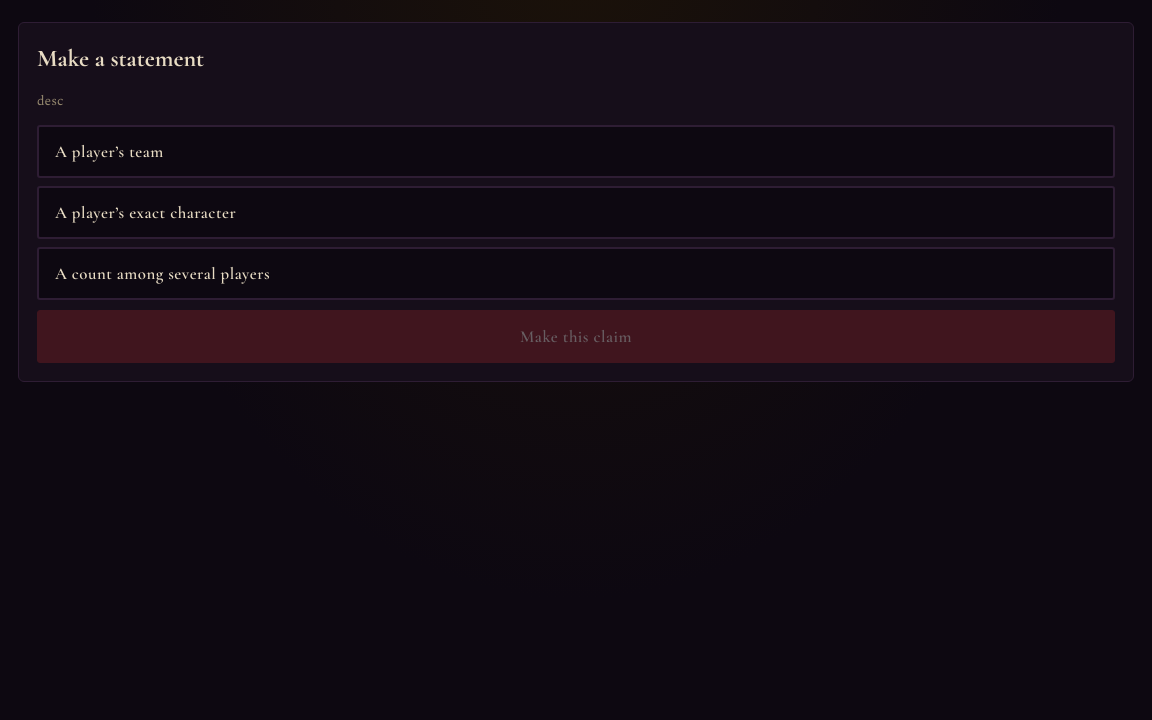
Scenario: ClaimBuilder › switching claim kind resets any in-progress picks
Step 1. Click the button "A player’s team" → (109, 151), box x1=37 y1=125 x2=1115 y2=178
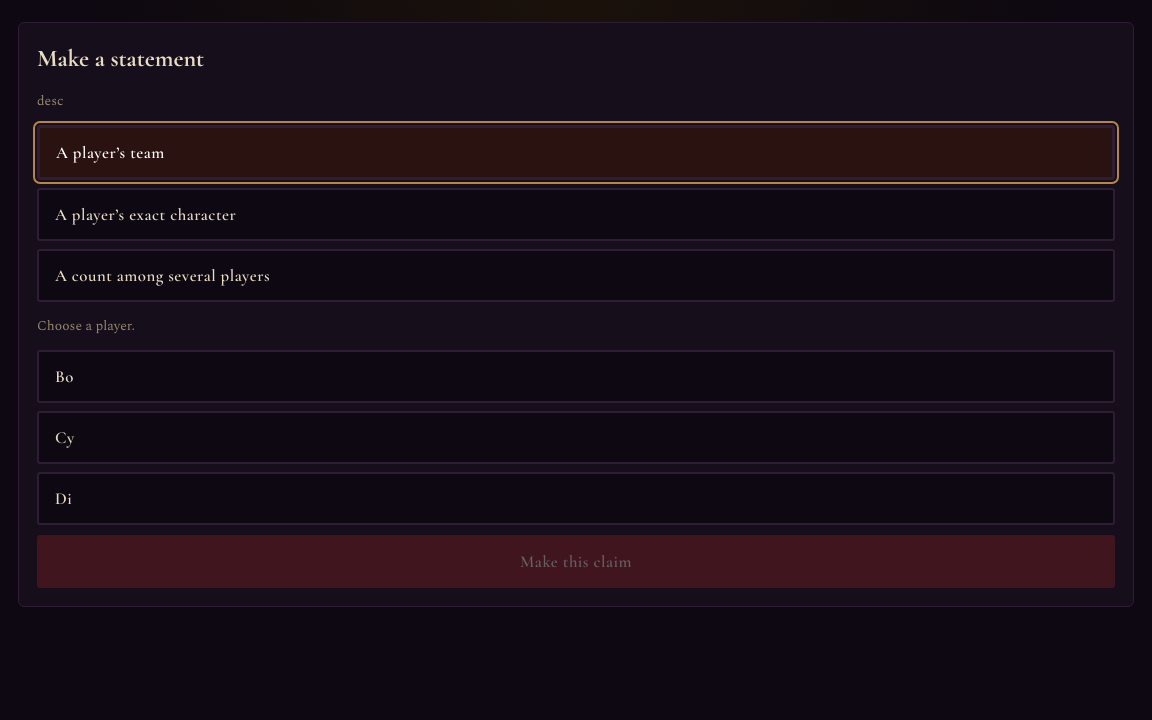
Step 2. Click the button "Bo" → (64, 376), box x1=37 y1=350 x2=1115 y2=403
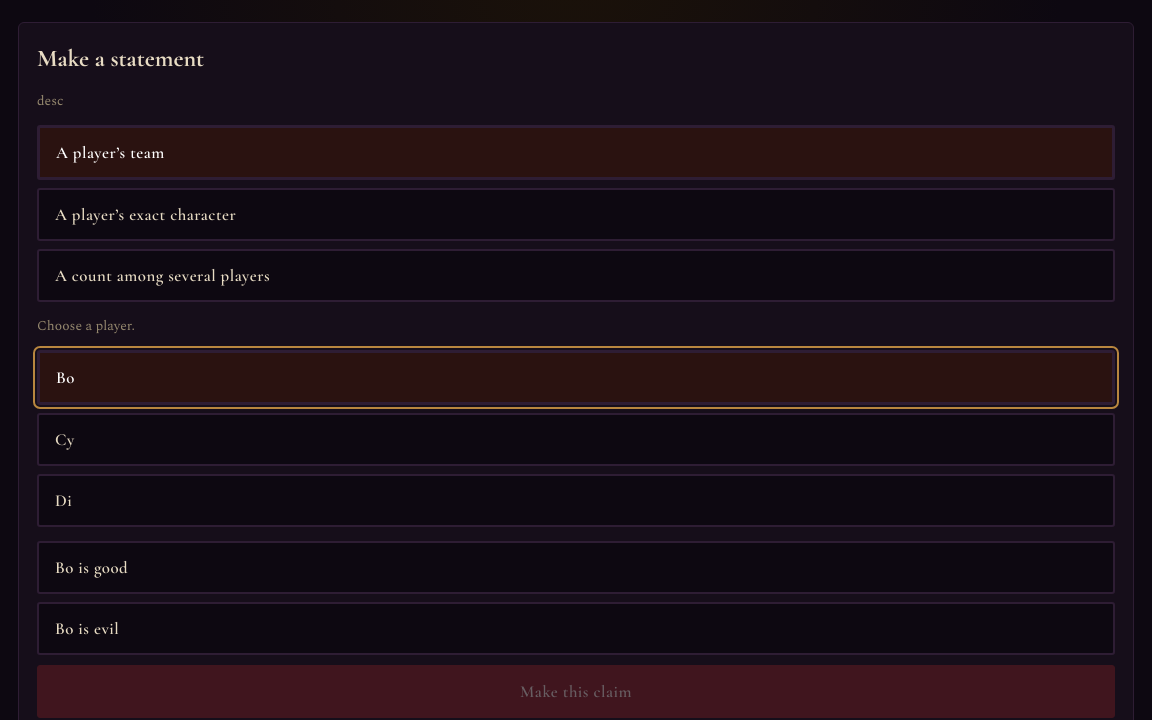
Result: the button "Bo is good" is shown at x1=37 y1=541 x2=1115 y2=594
Step 3. Click the button "A player’s exact character" → (146, 214), box x1=37 y1=188 x2=1115 y2=241
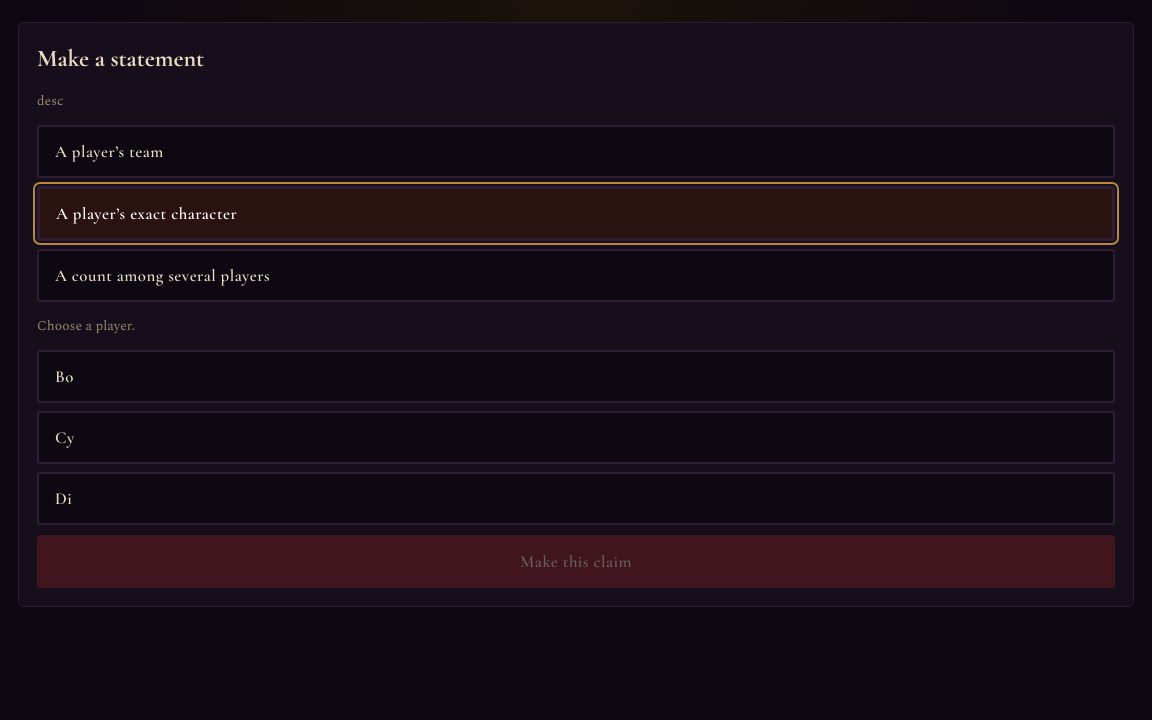
Result: the button "Bo is good" is gone
